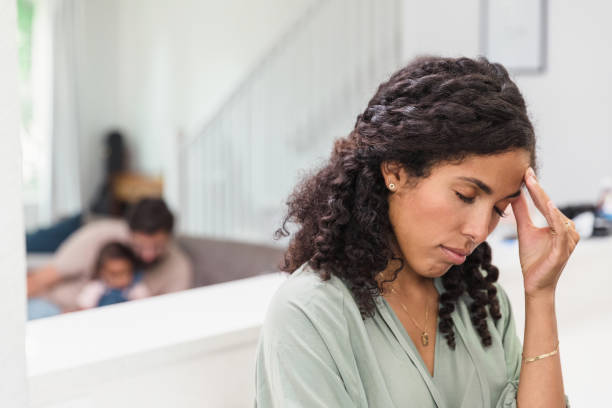without mask: (382, 123, 549, 286), (94, 250, 136, 288)
